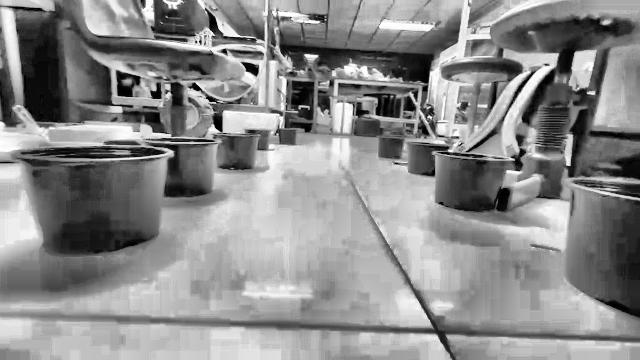pot: (14, 144, 172, 254), (566, 178, 639, 317), (115, 136, 220, 197), (434, 151, 513, 211), (211, 132, 258, 169), (406, 140, 448, 176)
